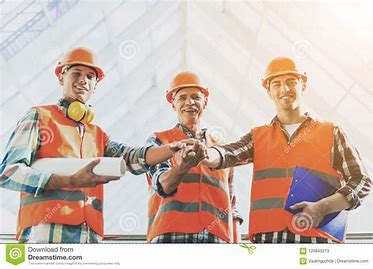Helmet: (253, 50, 319, 121), (49, 44, 110, 110), (160, 67, 215, 135)
Reflective vest: (16, 105, 106, 243), (248, 116, 341, 244), (145, 129, 237, 245)
